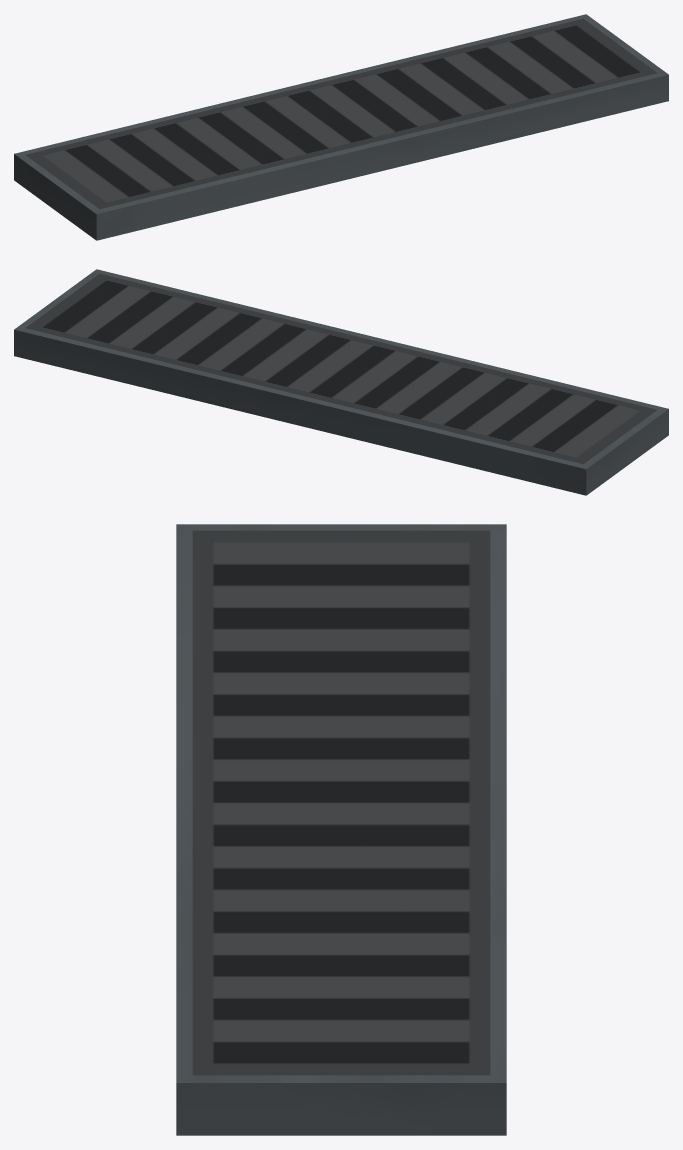
File: drain_grate.glb
3 renders of one model, top to bottom at view 1: azimuth 30°, elevation 25°; view 2: azimuth 150°, elevation 25°; view 3: azimuth 270°, elevation 25°, orthographic. The views are drawn at different scales.
Parts seen in each view (by area): view 1: drain_grate_body; view 2: drain_grate_body; view 3: drain_grate_body.
Boxes of the visible parts, <box> form: drain_grate_body: <box>14,14,668,240</box>; drain_grate_body: <box>14,269,668,495</box>; drain_grate_body: <box>176,524,506,1135</box>.
Size of the model in its own units: 1.2 by 0.0535 by 0.3.
2 materials, 2 textured.
